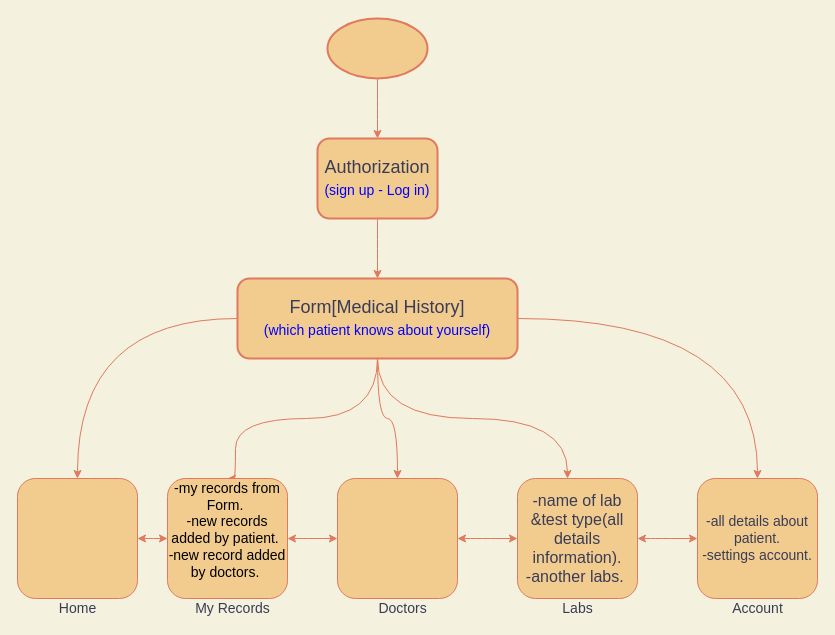
This 835x635 diagram has some shape labels left out. The box of each missing label's shape, as (x1, y1, x2, y2) in pixels:
-doctors who treat me(their records). -another doctors.: (336, 478, 458, 598)
-search -all types (my records ,labs & doctors): (16, 478, 138, 598)
Patient: (326, 17, 428, 79)
